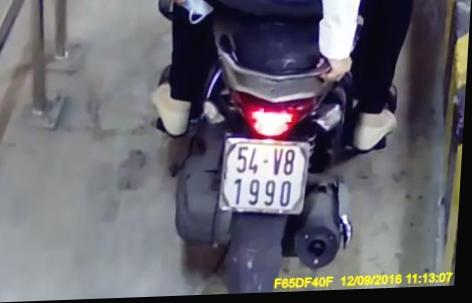License_Plate: (209, 128, 316, 223)
